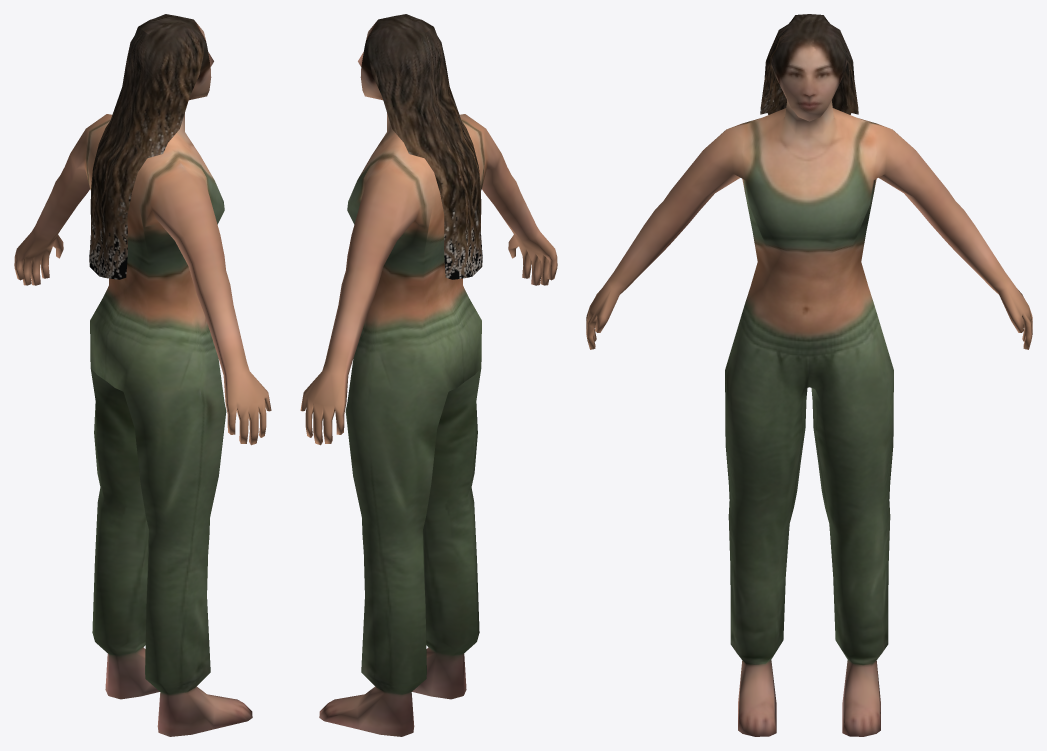
File: Character_42_Female.fbx
3 renders of one model, left to right at view 1: azimuth 30°, elevation 25°; view 2: azimuth 150°, elevation 25°; view 3: azimuth 270°, elevation 25°, orthographic.
Visible parts, largest first — view 1: Character_42_Female; view 2: Character_42_Female; view 3: Character_42_Female.
Part boxes in pixels (x1=…): Character_42_Female: x1=14, y1=14, x2=271, y2=736; Character_42_Female: x1=300, y1=14, x2=557, y2=736; Character_42_Female: x1=586, y1=14, x2=1032, y2=736.
Bounding box in the file's own units: 0.3179 × 1.63 × 0.9547.
